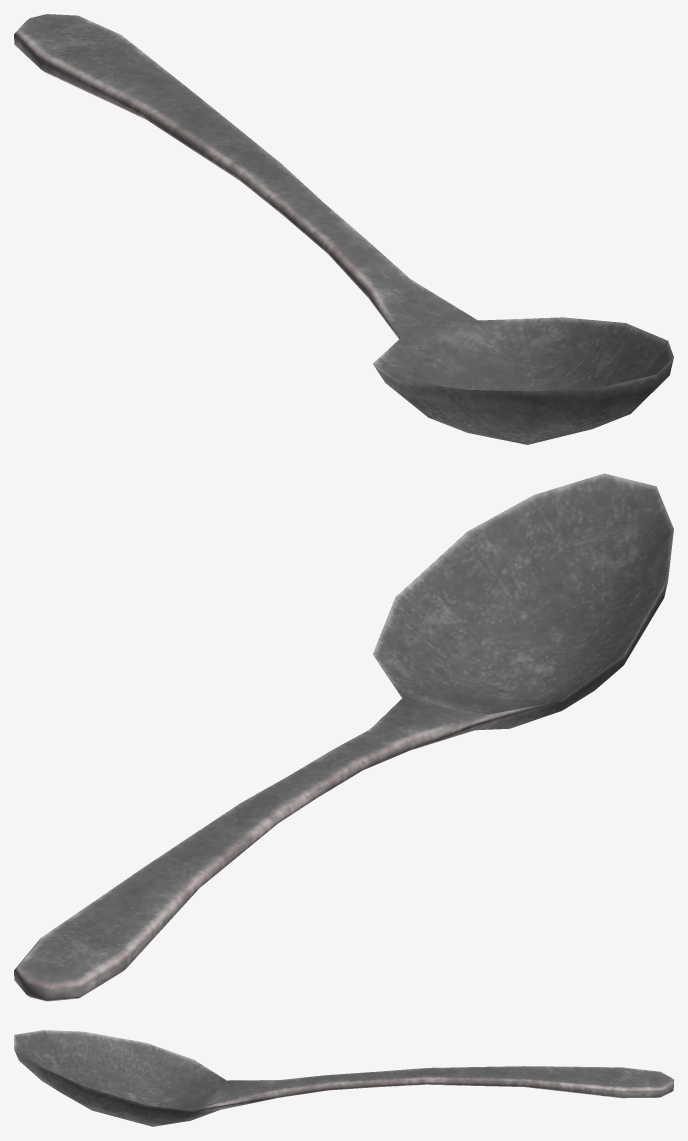
File: cuillere.glb
3 views of the same model, one above another, from view 1: azimuth 30°, elevation 25°; view 2: azimuth 150°, elevation 25°; view 3: azimuth 270°, elevation 25° (orthographic). The views are drawn at different scales.
Parts seen in each view (by area): view 1: cuillere_low; view 2: cuillere_low; view 3: cuillere_low.
Boxes of the visible parts, x1,y1,x2,y2 form: cuillere_low: (14, 14, 673, 444); cuillere_low: (14, 473, 673, 1001); cuillere_low: (14, 1030, 673, 1126).
Bounding box in the file's own units: 3.09 × 1.72 × 13.78.
Materials: 1 (1 with a texture image).
